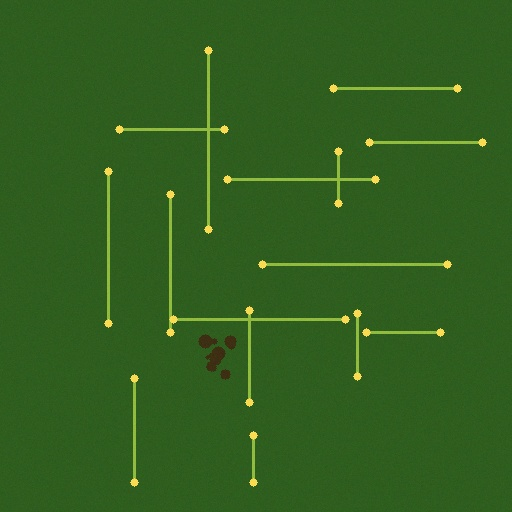contamination: (194, 330, 240, 383)
